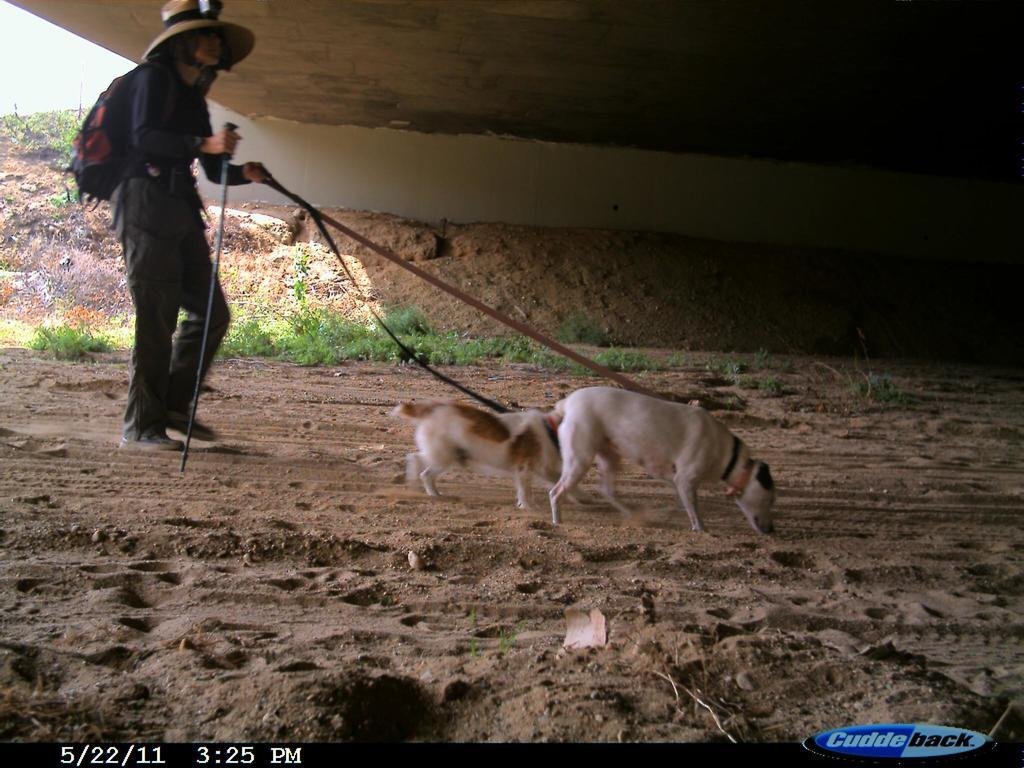dog: (537, 374, 797, 539), (386, 388, 574, 514)
